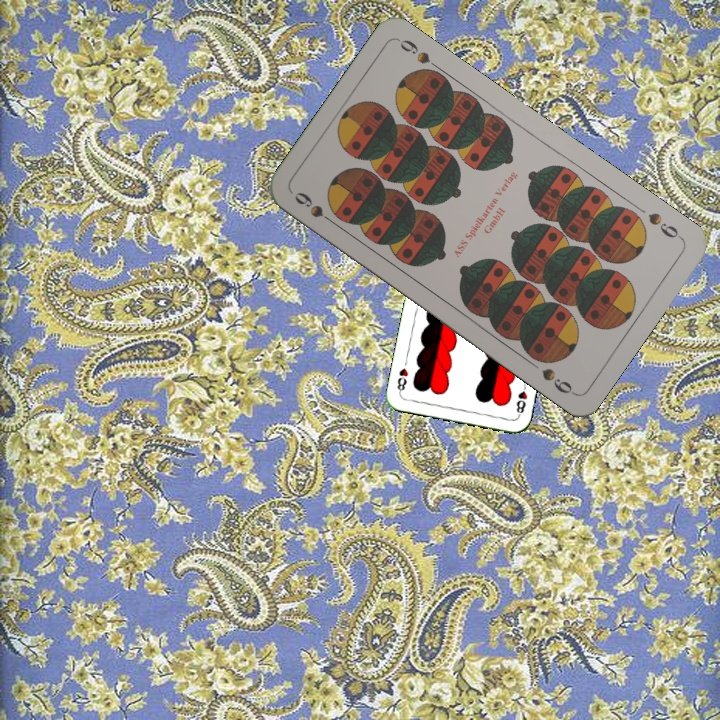H8: (512, 378, 530, 419)
S9: (290, 187, 343, 229), (644, 208, 685, 243)
